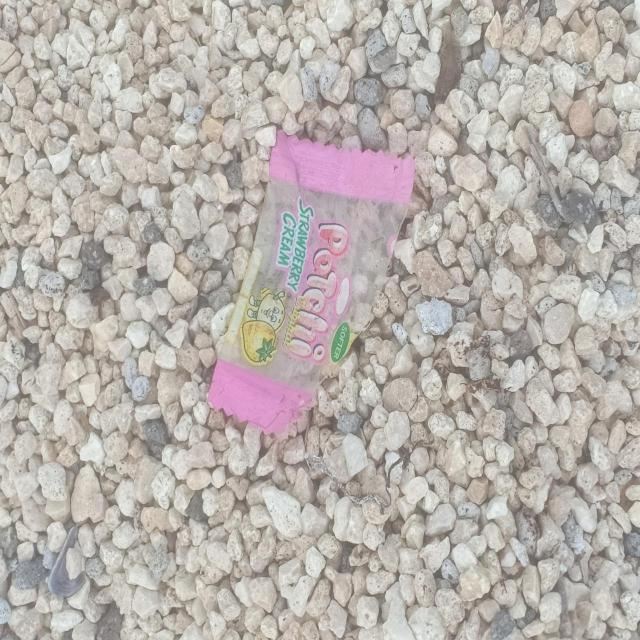plastic_waste: (209, 130, 418, 439)
